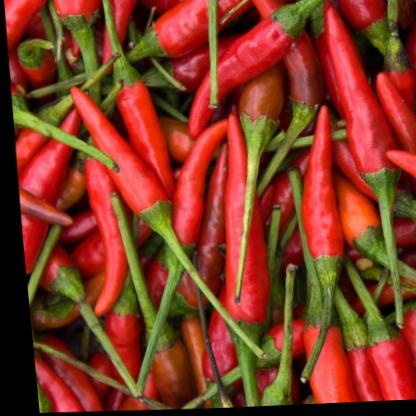--: (58, 76, 261, 388), (308, 3, 416, 341), (276, 92, 355, 407)
